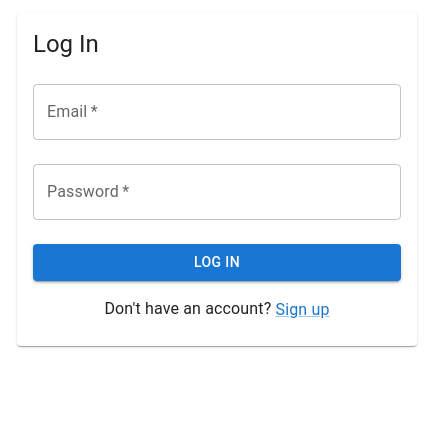
LoginForm › shows error message on login failure
The width and height of the screenshot is (435, 429).
Expected: the button "Log In" is shown, [33,244,401,281]
Step 1. Type "test@example.com" into the field → (217, 112), box [33,84,401,140]
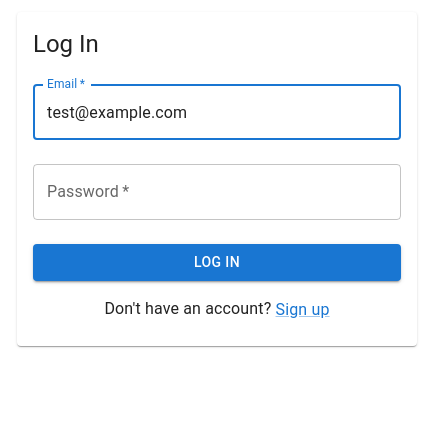
Step 2. Type "wrongpassword" into the password field labelled "Password *" → (217, 192), box [33,164,401,220]
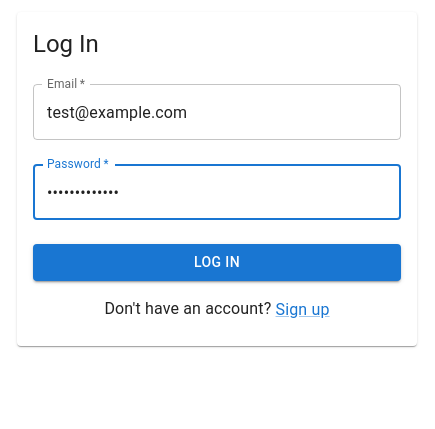
Step 3. Click the button "Log In" → (217, 263), box [33,244,401,281]
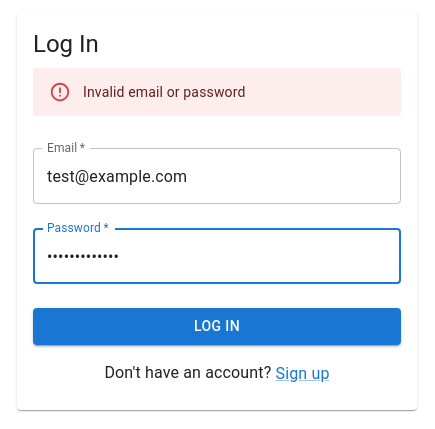
Expected: the text "Invalid email or password" is shown, [83,84,246,100]
